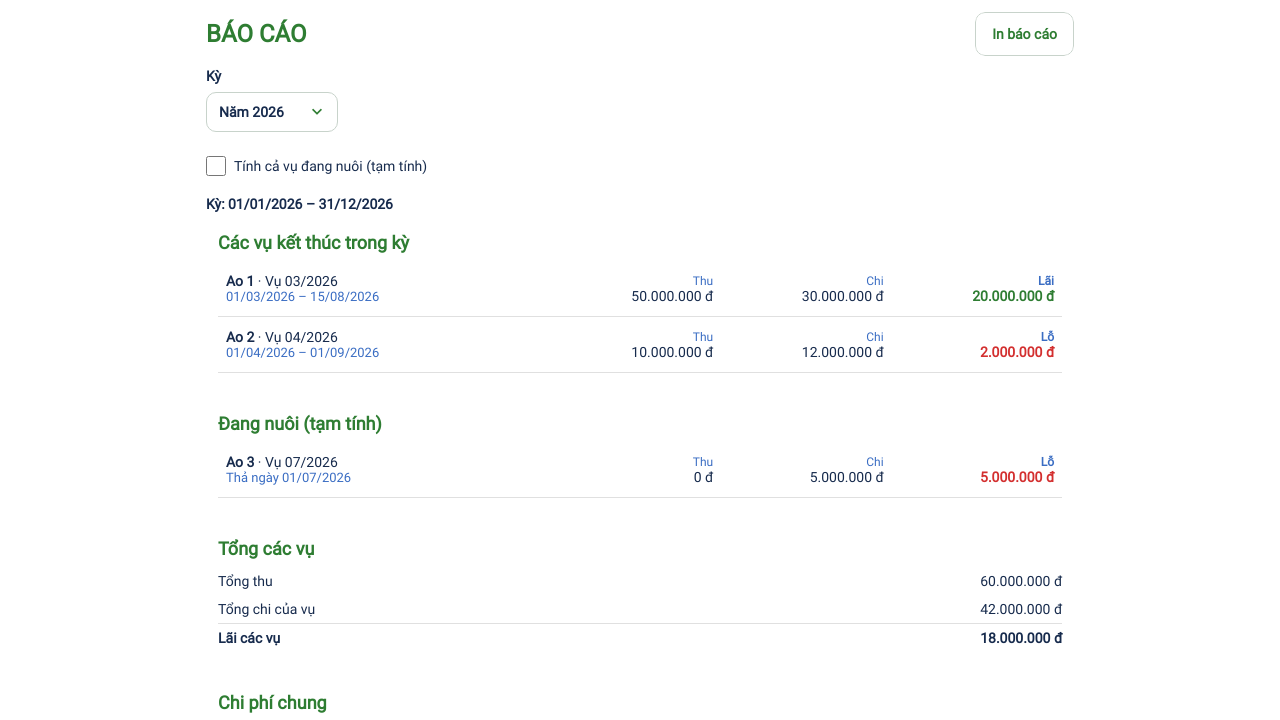
Test: mặc định năm nay; ô chọn kỳ có năm nay, 4 năm trước và Tùy chọn
Click the button with id "reportPeriod" at x=272, y=112, box x1=206 y1=92 x2=338 y2=132
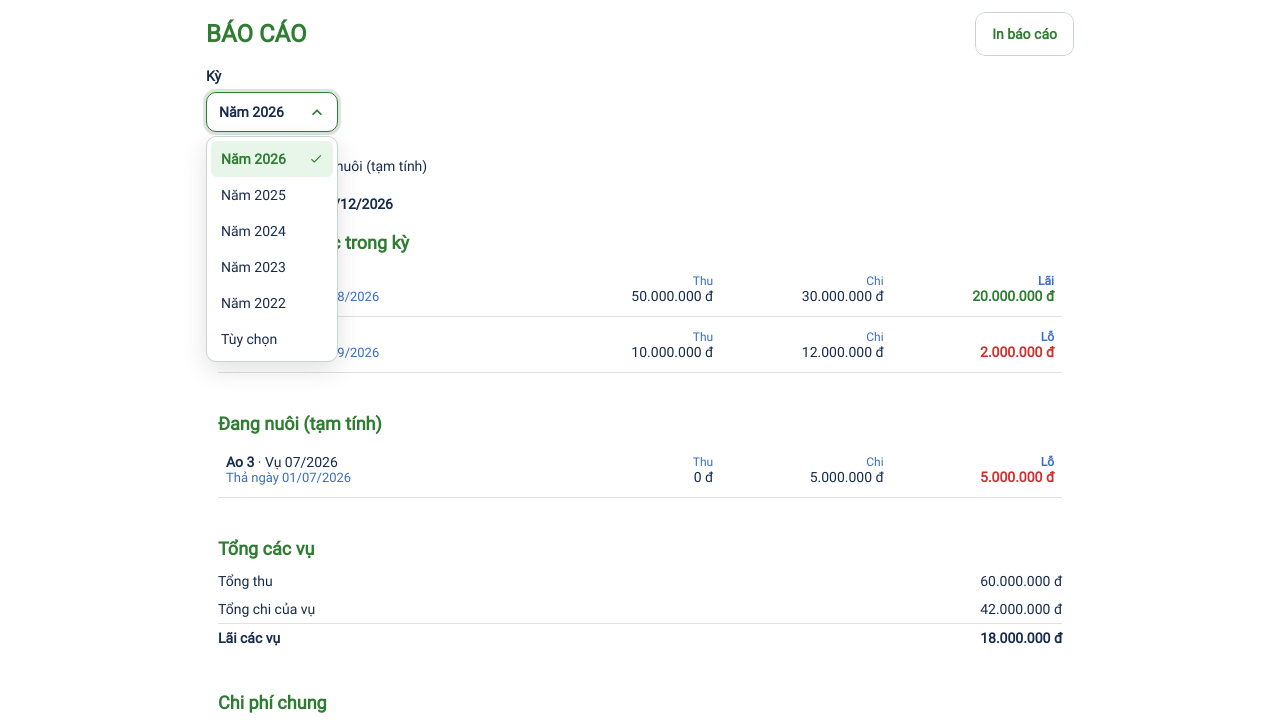
Expected: the list with id "reportPeriod-list" shows "Tùy chọn", x1=221 y1=331 x2=277 y2=347
